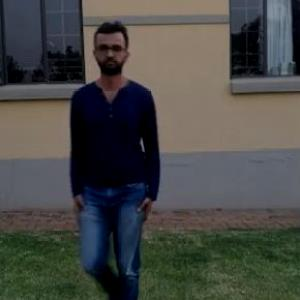follow: (64, 23, 157, 299)
